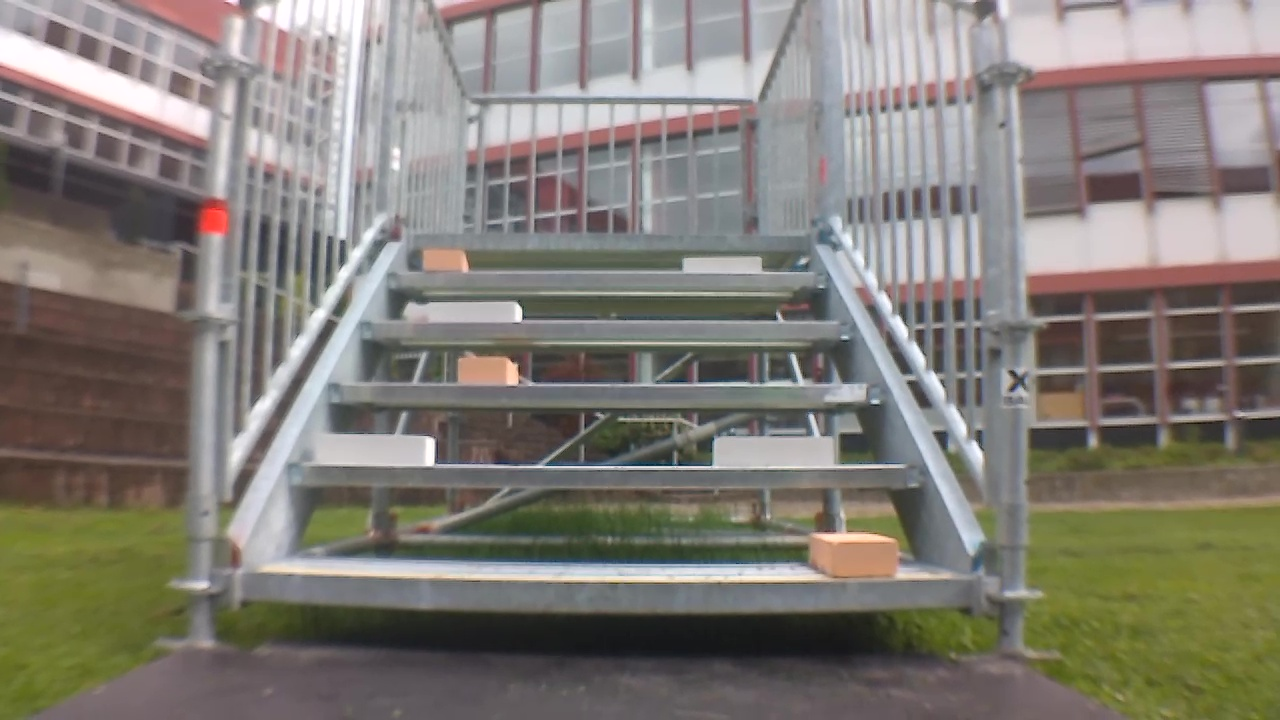brick: (809, 533, 897, 577), (317, 433, 433, 465), (714, 437, 830, 466), (429, 302, 522, 322), (458, 357, 517, 384), (684, 258, 759, 272), (424, 248, 466, 270)
edge: (241, 572, 963, 612), (287, 463, 926, 488), (328, 383, 886, 404), (358, 320, 853, 340), (389, 270, 827, 290), (411, 233, 814, 250)
stairs: (168, 2, 1043, 657)
steps: (234, 224, 978, 620)
